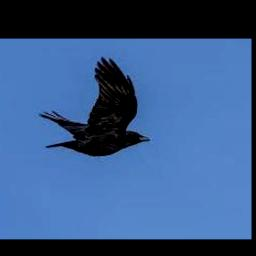Crow: (39, 57, 151, 155)
